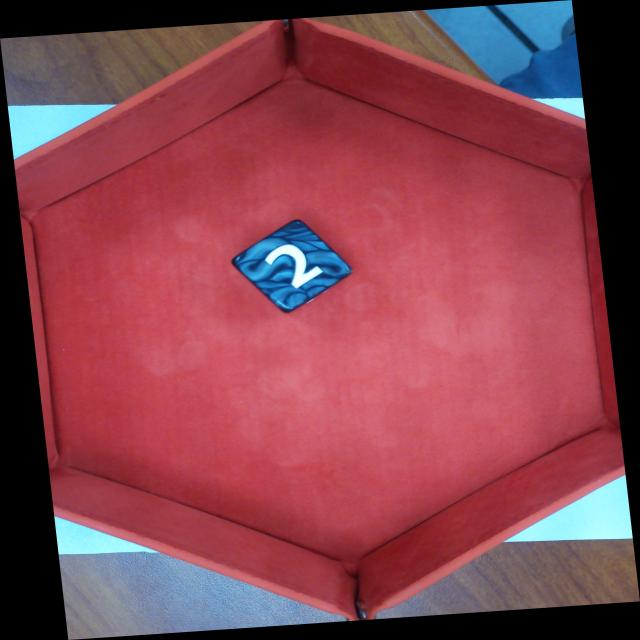dice: (228, 215, 357, 314)
